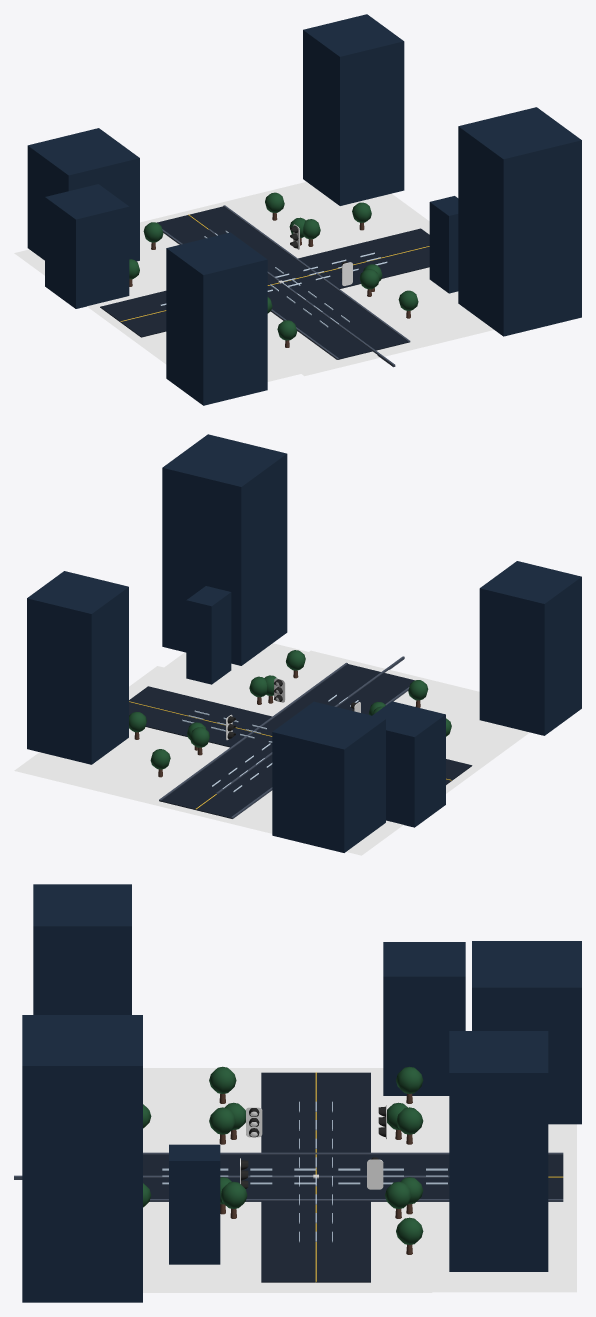
File: sence1.glb
The picture shows the model from 3 angles, top to bottom: view 1: azimuth 30°, elevation 25°; view 2: azimuth 150°, elevation 25°; view 3: azimuth 270°, elevation 25°; orthographic projection. The views are drawn at different scales.
Visible parts, largest first — view 1: mesh_71, mesh_73, mesh_70, mesh_74, mesh_1, mesh_72, mesh_0, Plane_1, Plane_2, Plane, mesh_75, Plane_3 (+1 smaller); view 2: mesh_71, mesh_73, mesh_70, mesh_72, Plane_1, mesh_1, mesh_74, Plane_2, mesh_0, mesh_75, Plane, Plane_3 (+1 smaller); view 3: mesh_71, mesh_73, mesh_0, Plane_1, mesh_72, mesh_70, mesh_74, Plane_2, mesh_1, mesh_75, Plane, Plane_3 (+9 smaller).
Boxes of the visible parts, x1,y1,x2,y2 form: mesh_71: (458,107,581,336); mesh_73: (303,14,404,205); mesh_70: (166,232,267,405); mesh_74: (45,184,129,308); mesh_1: (157,206,408,359); mesh_72: (27,128,139,261); mesh_0: (100,228,429,337); Plane_1: (140,182,440,325); Plane_2: (87,269,454,381); Plane: (14,193,391,356); mesh_75: (429,196,458,293); Plane_3: (302,287,493,376); mesh_71: (162,434,287,665); mesh_73: (27,571,128,764); mesh_70: (479,561,581,735); mesh_72: (272,701,385,852); Plane_1: (14,666,272,830); mesh_1: (160,664,414,818); mesh_74: (372,701,445,827); Plane_2: (188,650,529,758); mesh_0: (129,686,472,784); mesh_75: (186,586,231,684); Plane: (195,694,503,855); Plane_3: (164,643,308,687); mesh_71: (22,1015,142,1302); mesh_73: (449,1031,548,1271); mesh_0: (261,1072,370,1282); Plane_1: (198,1132,576,1292); mesh_72: (472,941,581,1124); mesh_70: (33,884,131,1014); mesh_74: (383,942,465,1095); Plane_2: (143,1068,434,1228); mesh_1: (143,1154,563,1198); mesh_75: (169,1144,220,1264); Plane: (198,1068,576,1228); Plane_3: (143,1228,432,1292).
Size of the model in its own units: 210 by 96.34 by 207.
